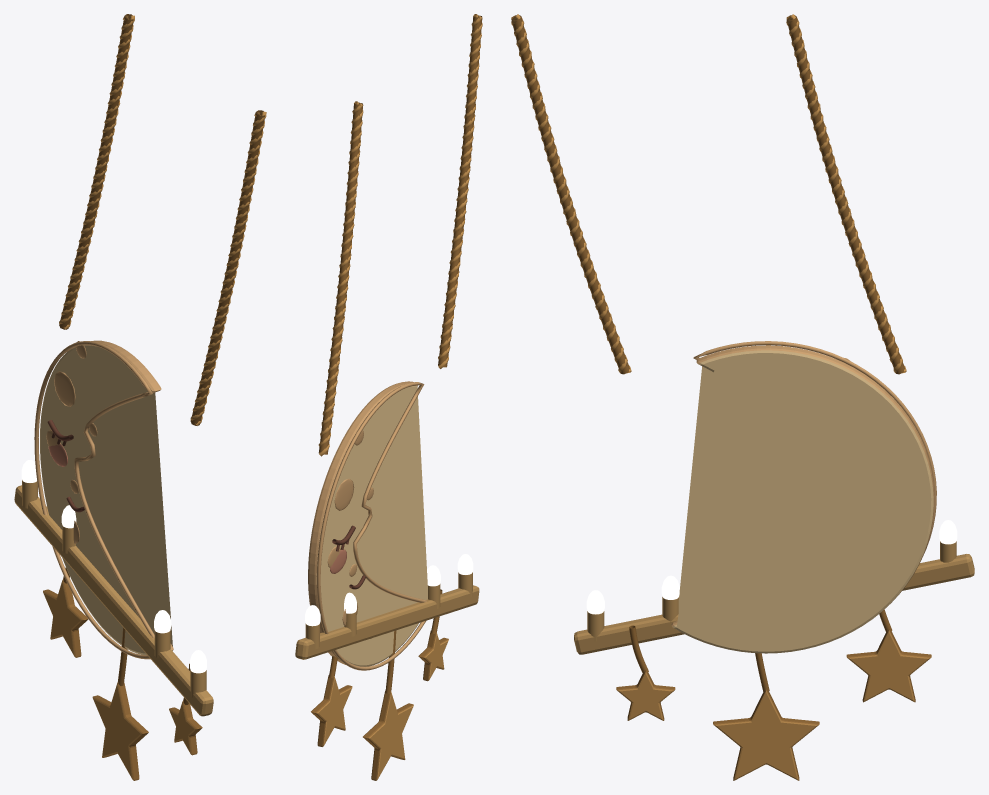
The model's file is SM_Menu_MoonAndStars.fbx.
3 renders of one model, left to right at view 1: azimuth 30°, elevation 25°; view 2: azimuth 150°, elevation 25°; view 3: azimuth 270°, elevation 25°, orthographic. The views are drawn at different scales.
Visible parts, largest first — view 1: Crescent plywood.001_Baked; view 2: Crescent plywood.001_Baked; view 3: Crescent plywood.001_Baked.
Boxes of the visible parts, left/top/right/bottom form: Crescent plywood.001_Baked: left=14, top=14, right=266, bottom=780; Crescent plywood.001_Baked: left=295, top=14, right=482, bottom=780; Crescent plywood.001_Baked: left=511, top=14, right=974, bottom=780.
Bounding box in the file's own units: 19.84 × 204 × 376.
